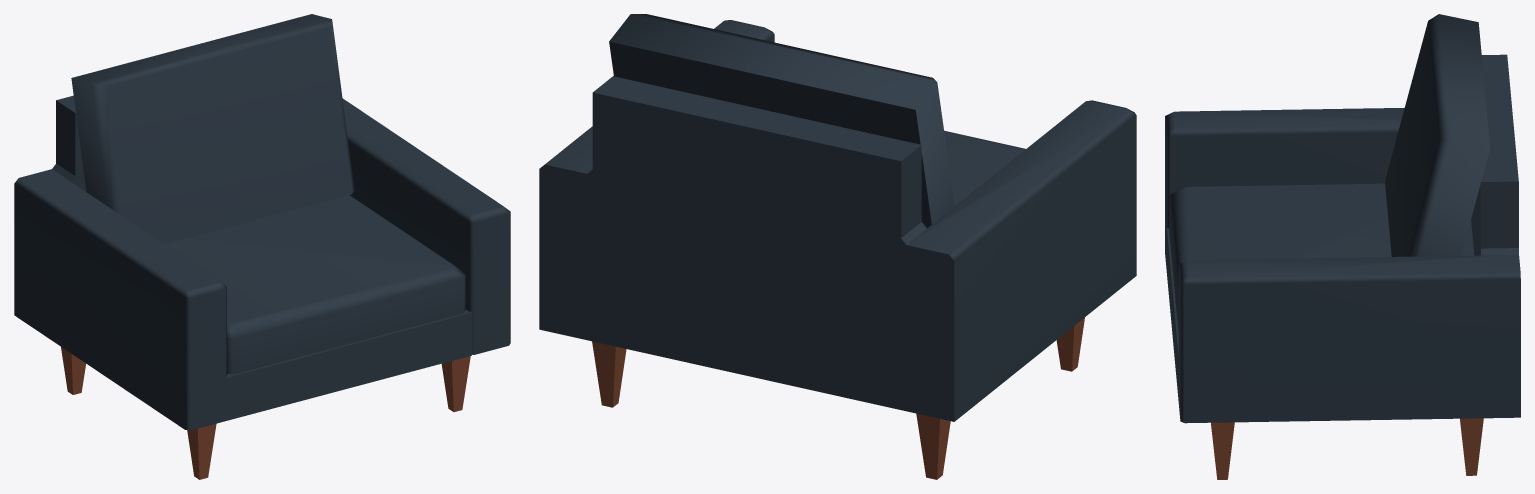
File: Seat1.fbx
The picture shows the model from 3 angles, left to right: view 1: azimuth 30°, elevation 25°; view 2: azimuth 150°, elevation 25°; view 3: azimuth 270°, elevation 25°; orthographic projection. The views are drawn at different scales.
Visible parts, largest first — view 1: Armchair; view 2: Armchair; view 3: Armchair.
Boxes of the visible parts, x1,y1,x2,y2 form: Armchair: [14, 14, 510, 479]; Armchair: [539, 14, 1136, 479]; Armchair: [1165, 14, 1520, 479].
Bounding box in the file's own units: 226 × 198 × 193.
